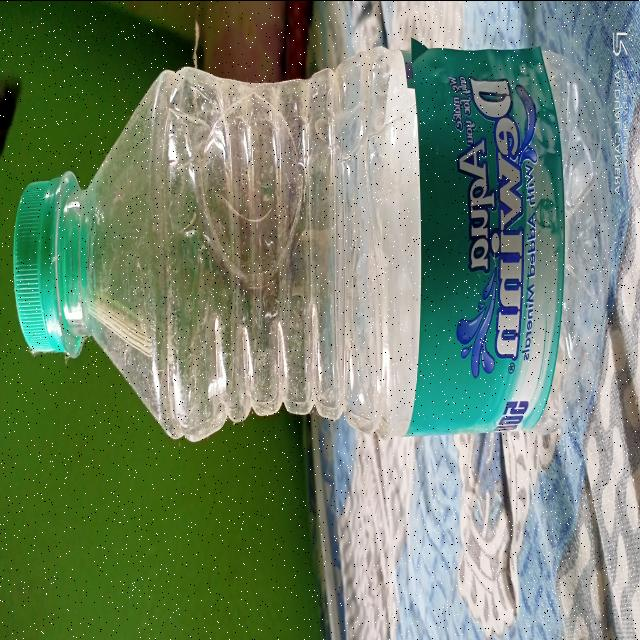plastic: (12, 39, 614, 443)
